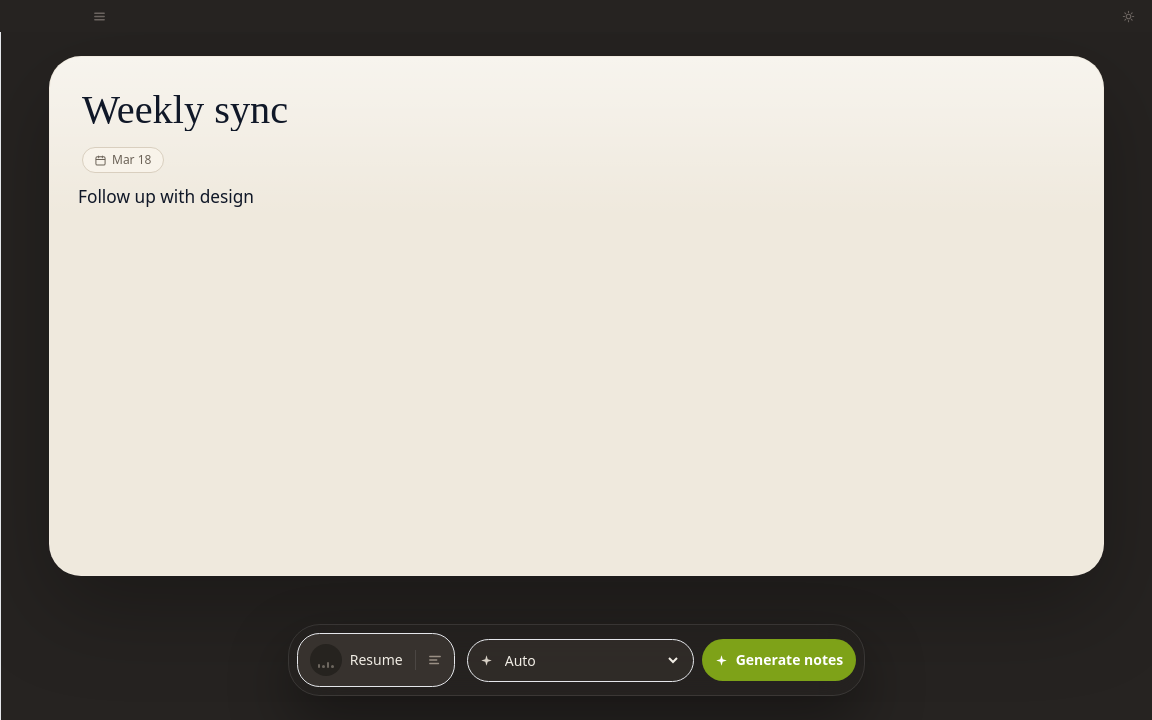
Test: App enhancement flow › opens settings when the picker edit option is selected
Expected: the element with test id "meeting-bar" is shown, [50,57,1103,173]
Select "Edit templates…" in the dropdown with test id "meeting-template-select" at (591, 660), box [501,650,681,670]
(page scrolled)
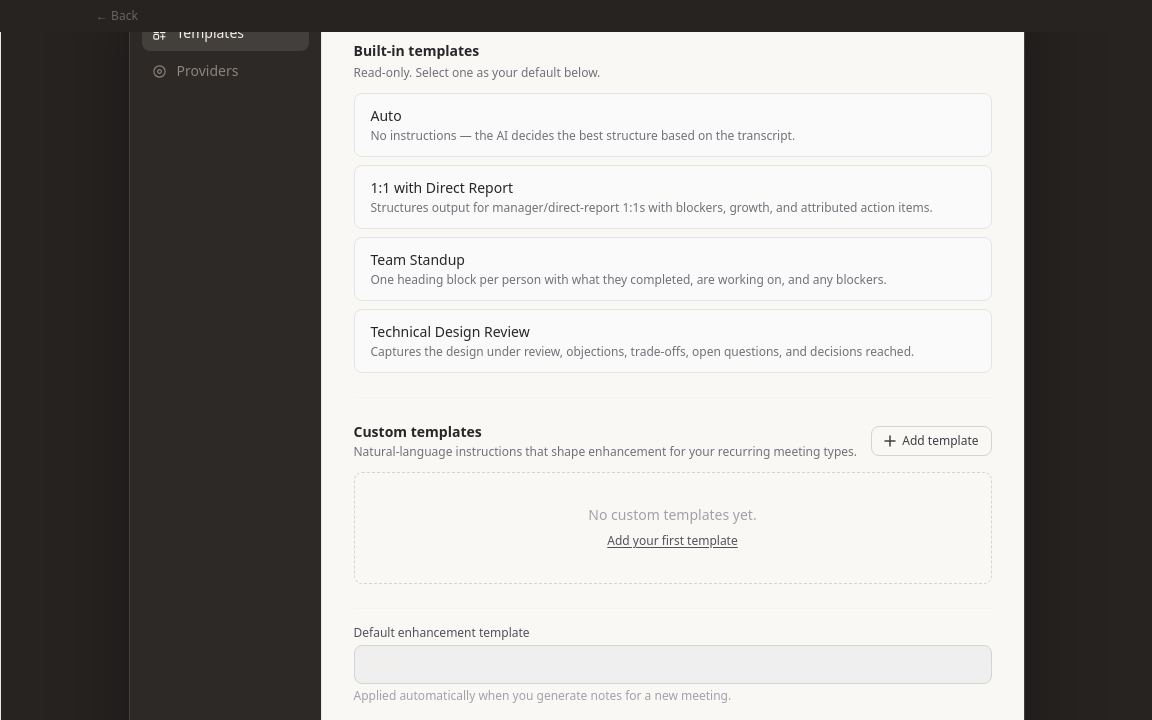
Result: the element with test id "settings-page" is shown
